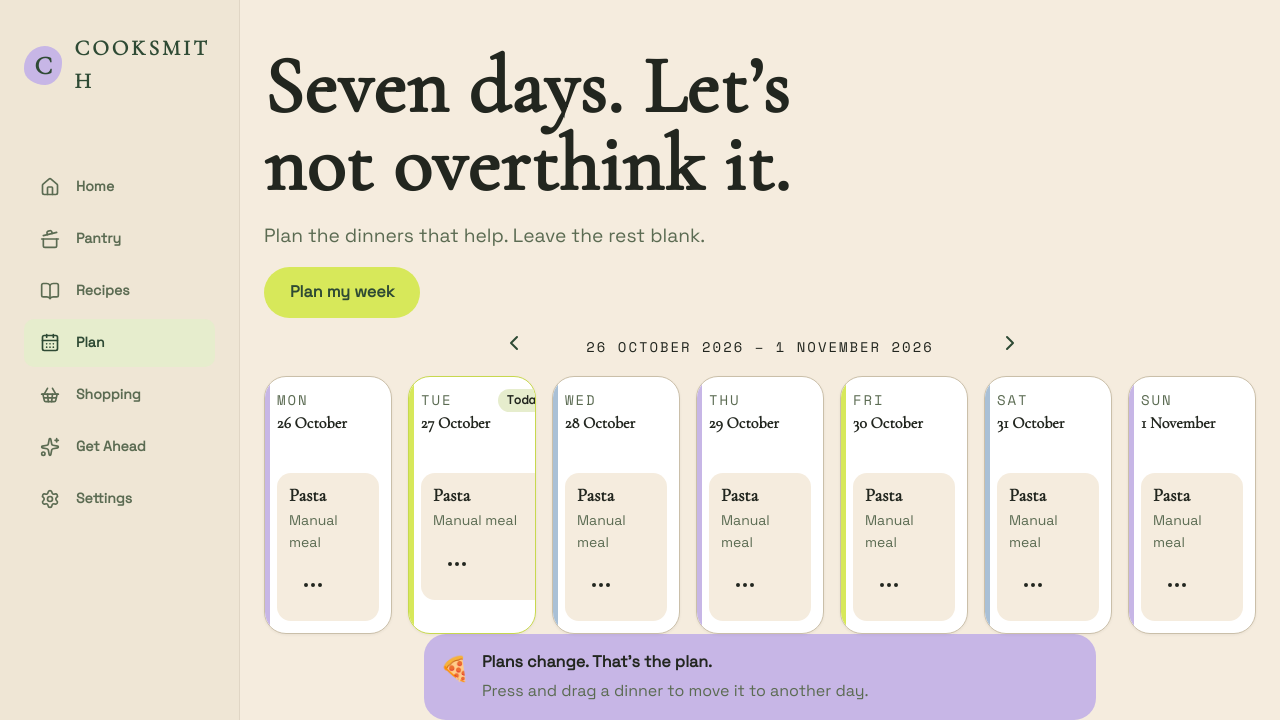
Scenario: weekly dinner planner › requires a separate confirmation before reviewing a full-week replacement
Click the button "Plan my week". click: (342, 292)
box: top-left (264, 266), bottom-right (420, 318)
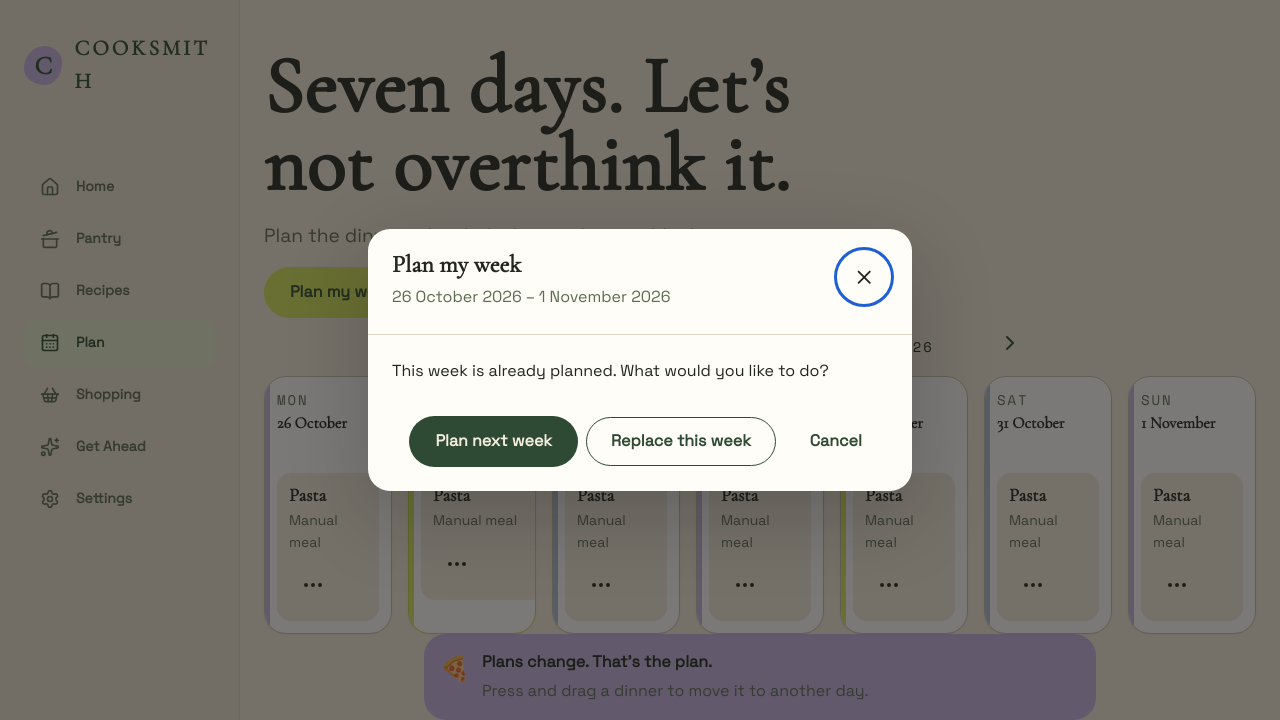
Check: the text "This week is already planned. What would you like to do?" is shown, box top-left (392, 359), bottom-right (888, 384)
Click the button "Replace this week". click: (681, 442)
box: top-left (586, 417), bottom-right (776, 466)
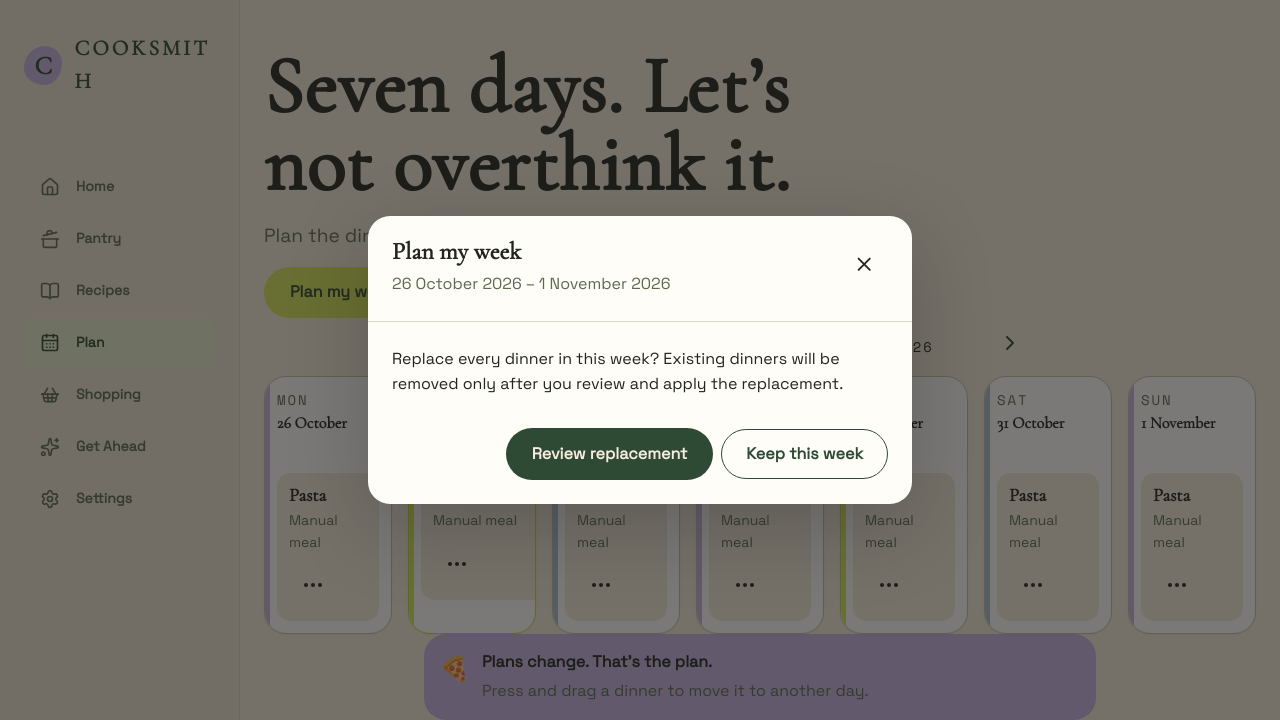
Check: the text "Replace every dinner in this week" is shown, box top-left (392, 348), bottom-right (843, 394)
Click the button "Keep this week". click: (805, 454)
box: top-left (721, 429), bottom-right (888, 478)
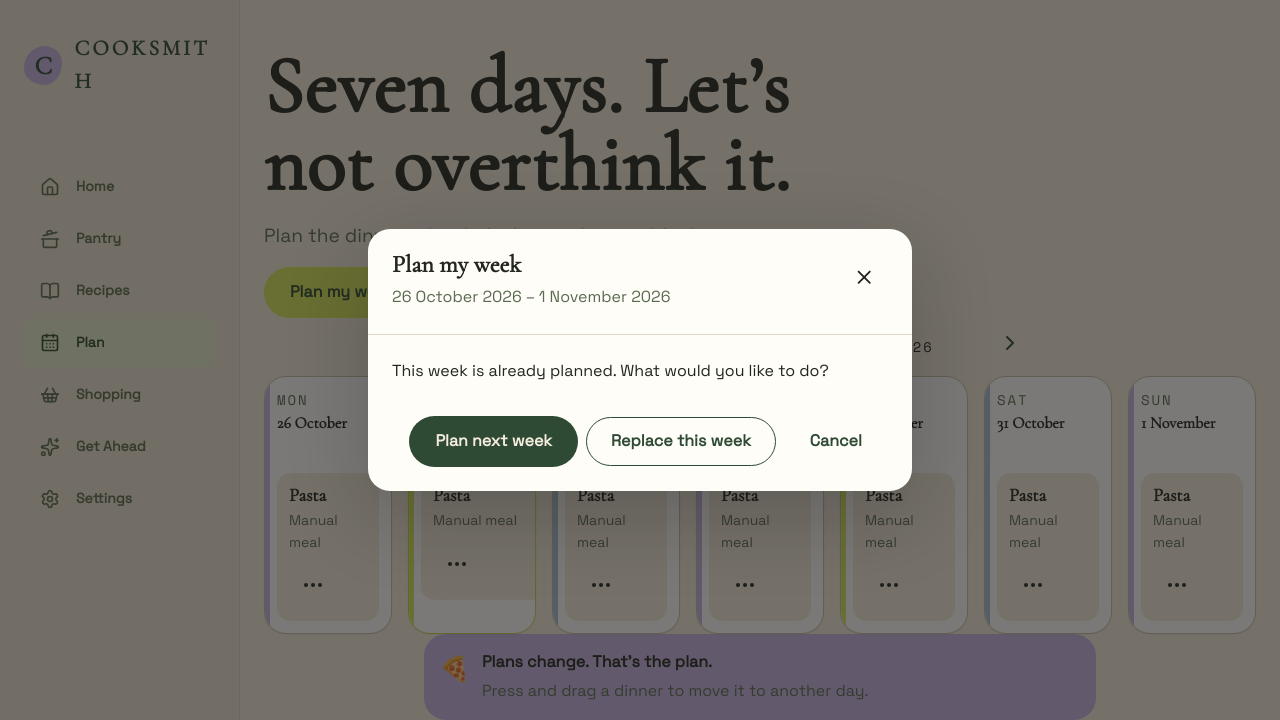
Check: the text "This week is already planned. What would you like to do?" is shown, box top-left (392, 359), bottom-right (888, 384)
Click the button "Replace this week". click: (681, 442)
box: top-left (586, 417), bottom-right (776, 466)
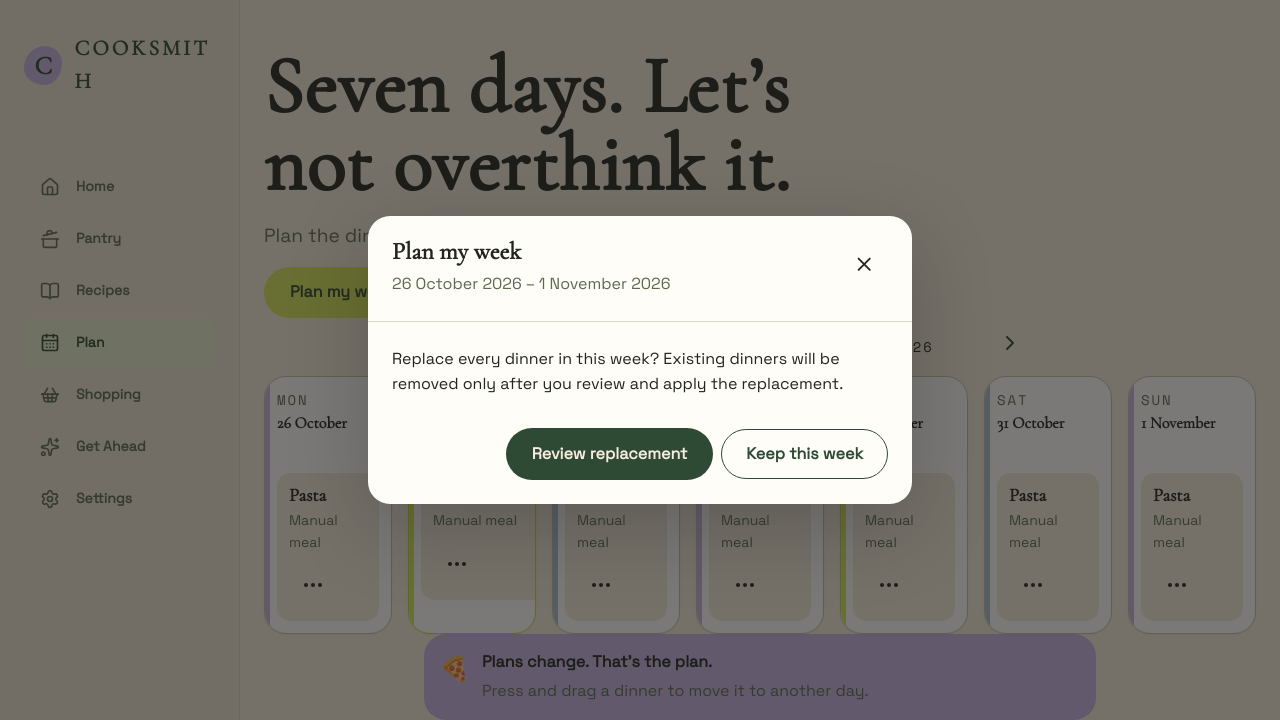
Click the button "Review replacement". click: (610, 454)
box: top-left (506, 428), bottom-right (713, 480)
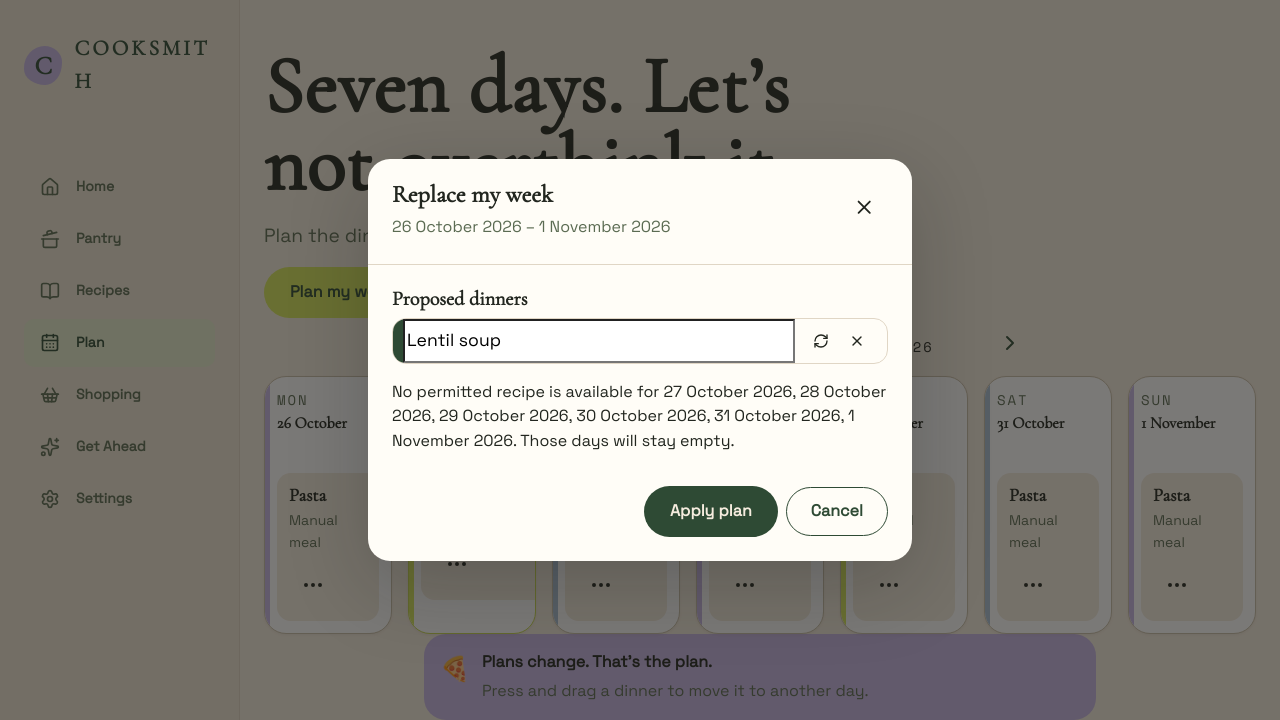
Check: the heading "Proposed dinners" is shown, box top-left (392, 287), bottom-right (528, 311)
